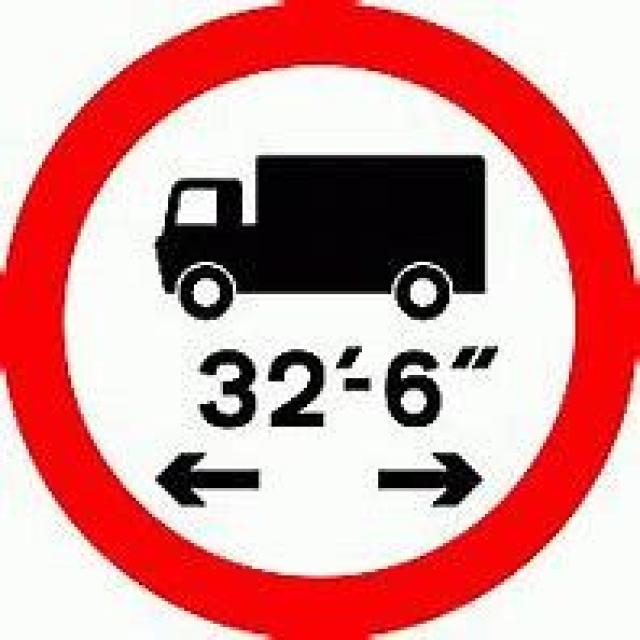length_limit: (0, 0, 637, 637)
